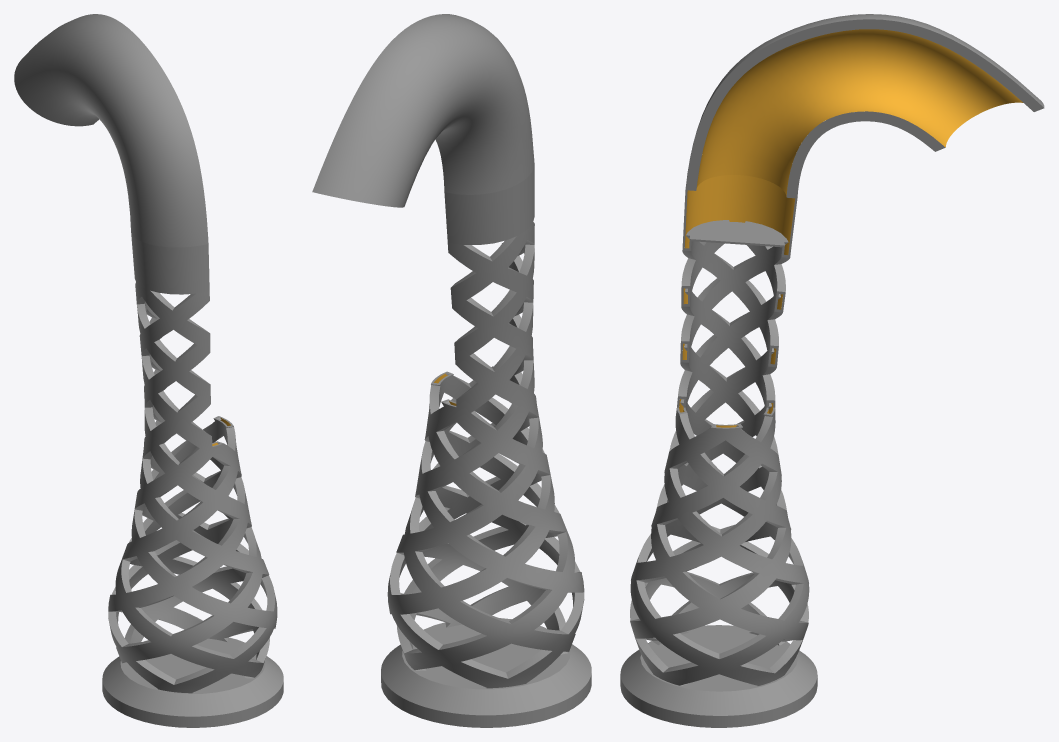
File: final_tap.glb
3 views of the same model, side by side, from view 1: azimuth 30°, elevation 25°; view 2: azimuth 150°, elevation 25°; view 3: azimuth 270°, elevation 25° (orthographic). The views are drawn at different scales.
Visible parts, largest first — view 1: Final tap; view 2: Final tap; view 3: Final tap.
Boxes of the visible parts, box(x1,y1,x2,y2) form: Final tap: box(14, 14, 283, 727); Final tap: box(312, 14, 591, 727); Final tap: box(620, 14, 1044, 727).
Bounding box in the file's own units: 0.0675 × 0.2521 × 0.1453.
